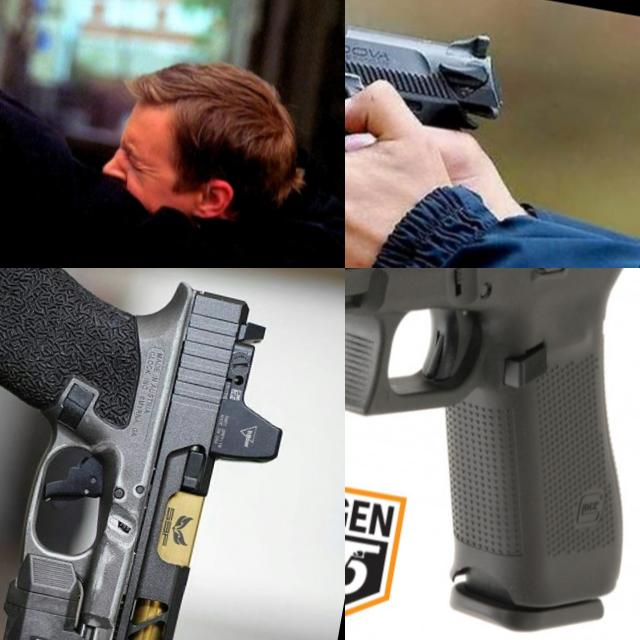handgun: (0, 268, 316, 640), (345, 268, 640, 640), (345, 0, 598, 268), (0, 0, 79, 47)
